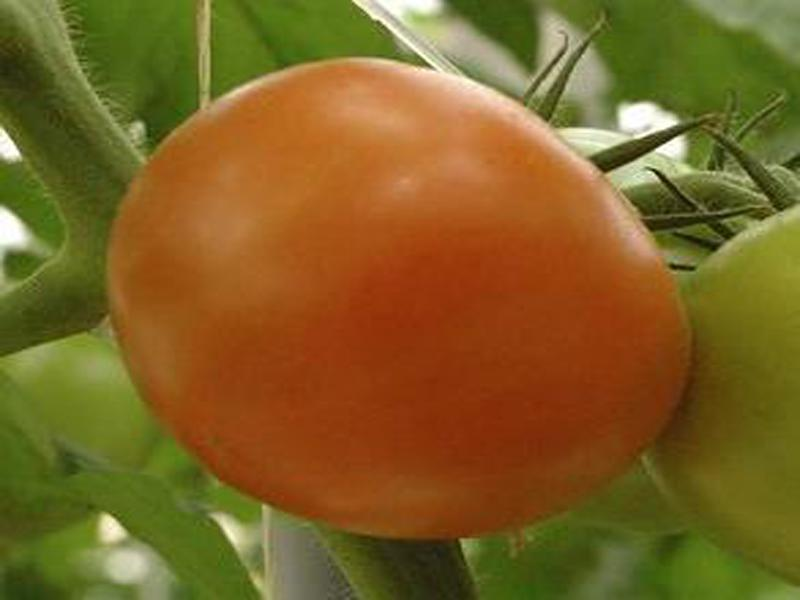Tomato: (106, 55, 688, 538)
